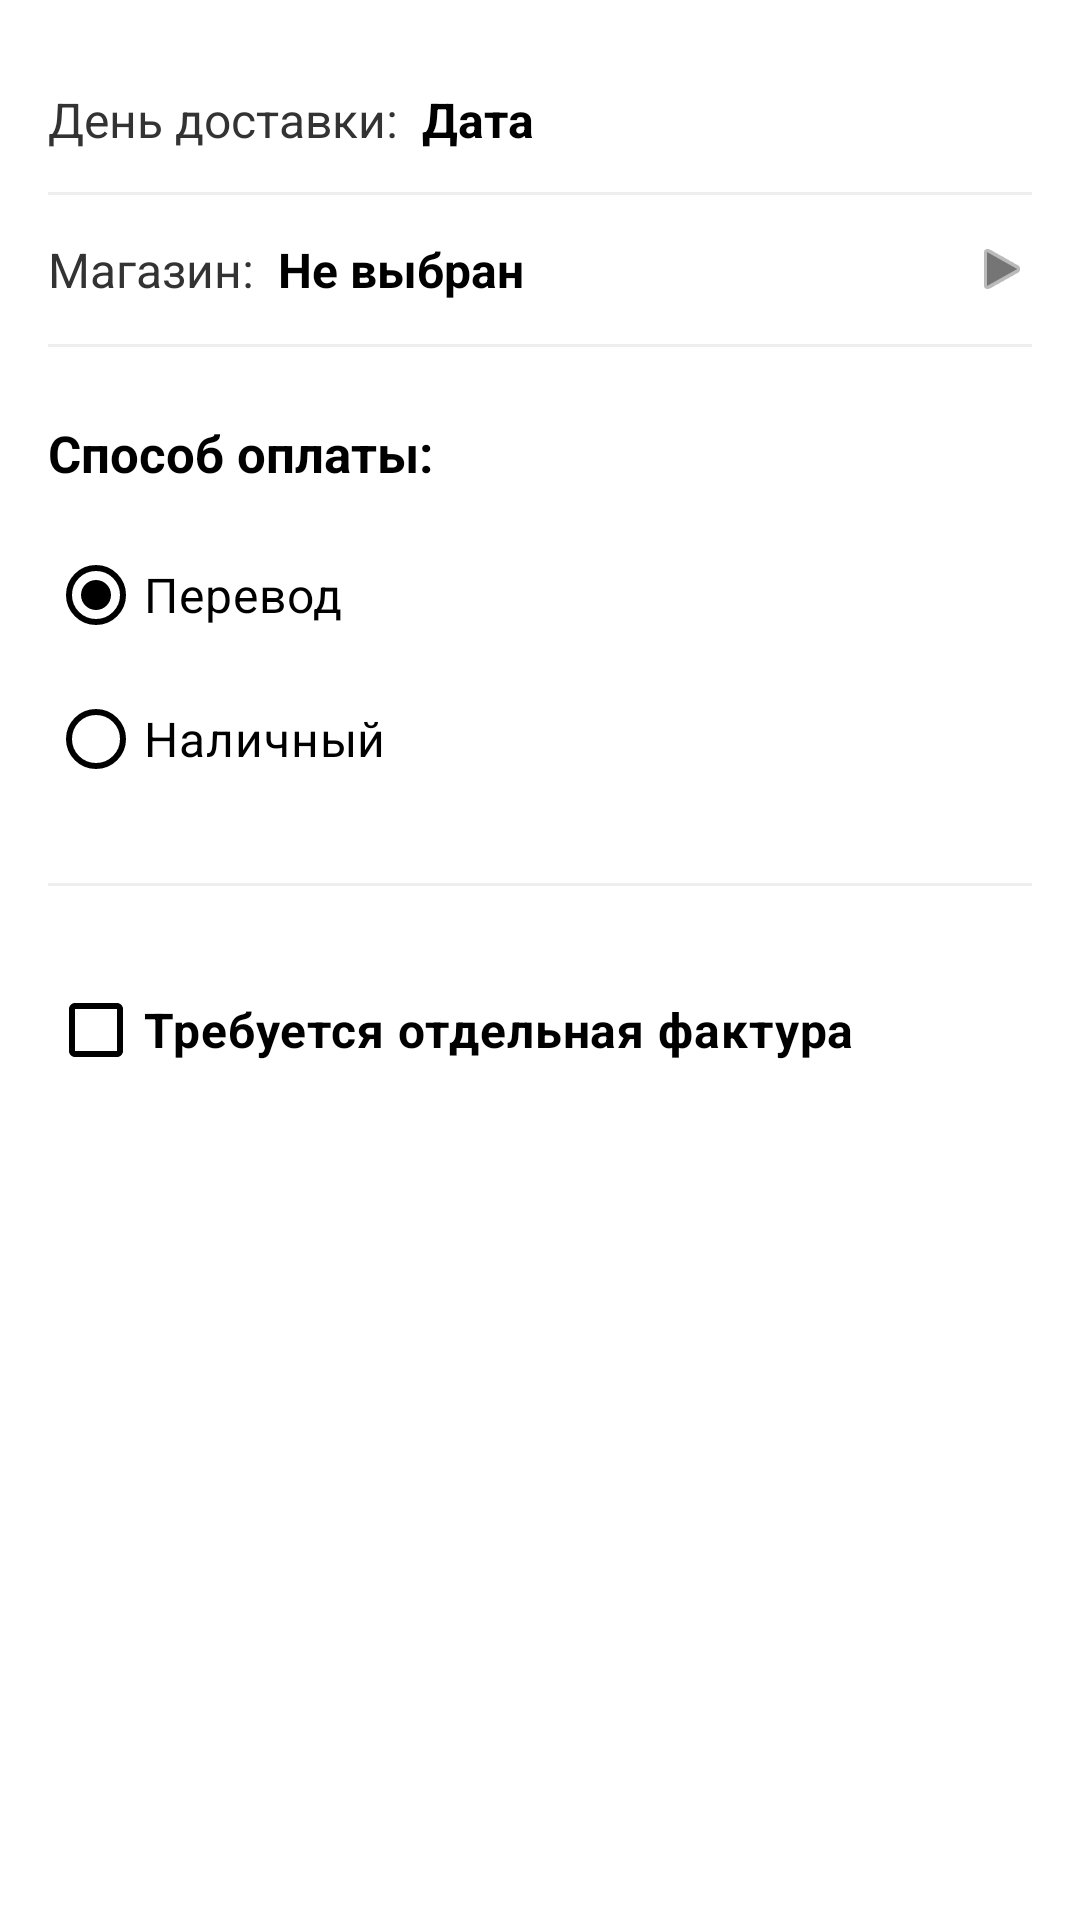

Icons on this 1080 × 1920 Android screen, each with its box as [x1, y1, x2, y2]:
play: [984, 249, 1020, 289]
